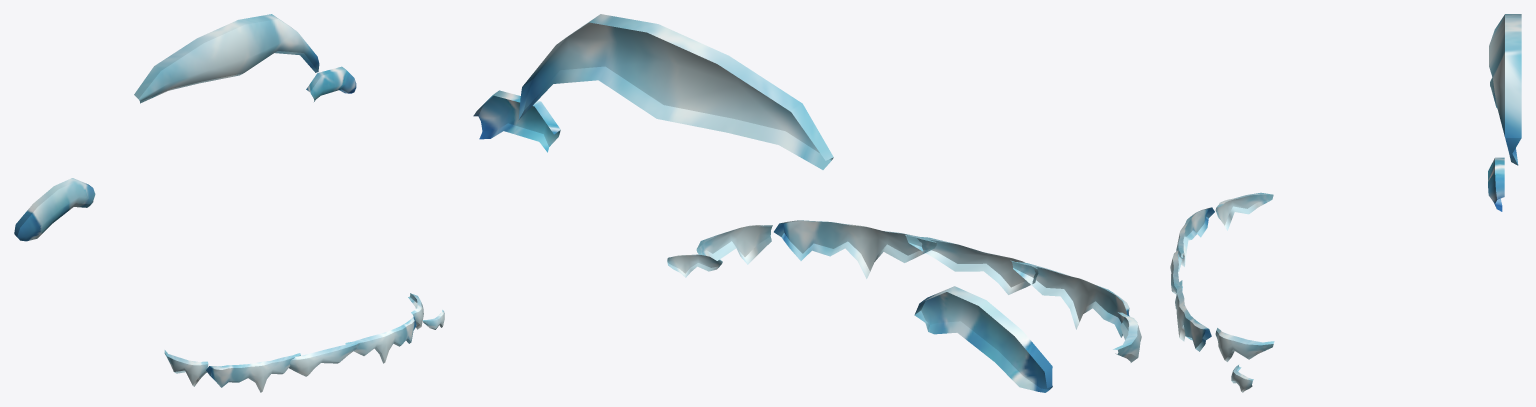
File: Fx_Obj_WeatherForecast_01.FBX
The picture shows the model from 3 angles, left to right: view 1: azimuth 30°, elevation 25°; view 2: azimuth 150°, elevation 25°; view 3: azimuth 270°, elevation 25°; orthographic projection. The views are drawn at different scales.
Visible parts, largest first — view 1: Fx_Obj_WeatherForecast_01; view 2: Fx_Obj_WeatherForecast_01; view 3: Fx_Obj_WeatherForecast_01.
Boxes of the visible parts, x1,y1,x2,y2 form: Fx_Obj_WeatherForecast_01: (14,14,444,392); Fx_Obj_WeatherForecast_01: (473,14,1141,392); Fx_Obj_WeatherForecast_01: (1170,14,1521,392).
Size of the model in its own units: 184 by 129 by 135.
